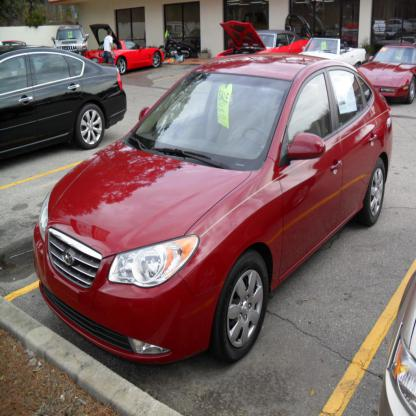Vehicle: (31, 53, 394, 371)
